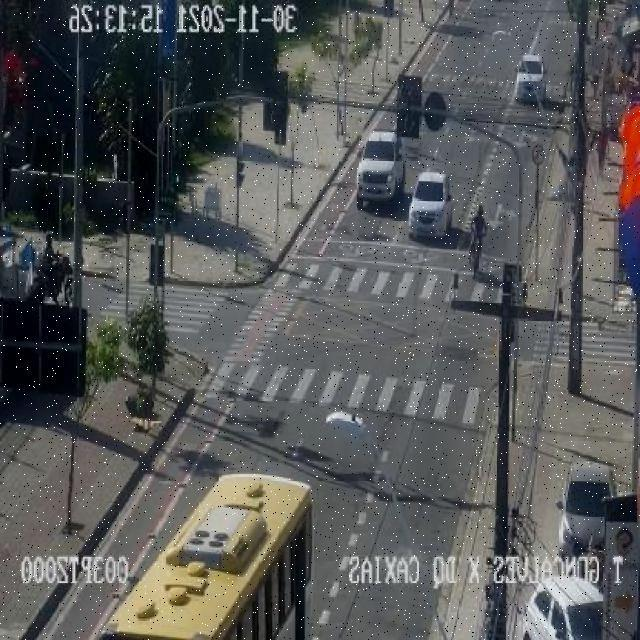Bus: (99, 472, 314, 640)
Car: (556, 459, 616, 558), (524, 574, 605, 640), (354, 130, 403, 210), (406, 171, 453, 237), (513, 54, 547, 105)
Cycle: (43, 252, 76, 305), (466, 224, 488, 279)
